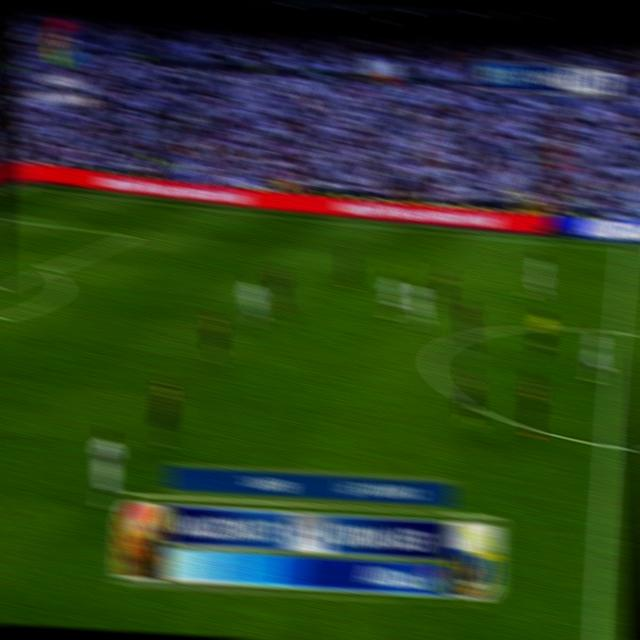bigarea_bottom_inner: (109, 570, 128, 594)
corner: (18, 179, 35, 192)
halfcircle_bottom: (596, 425, 621, 464)
halfcircle_top: (606, 318, 626, 345)
top_arc_area_intersection: (40, 261, 57, 278)
